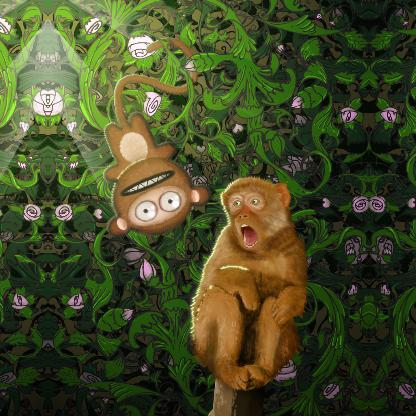Monkey: (181, 173, 313, 403), (102, 36, 212, 235)
